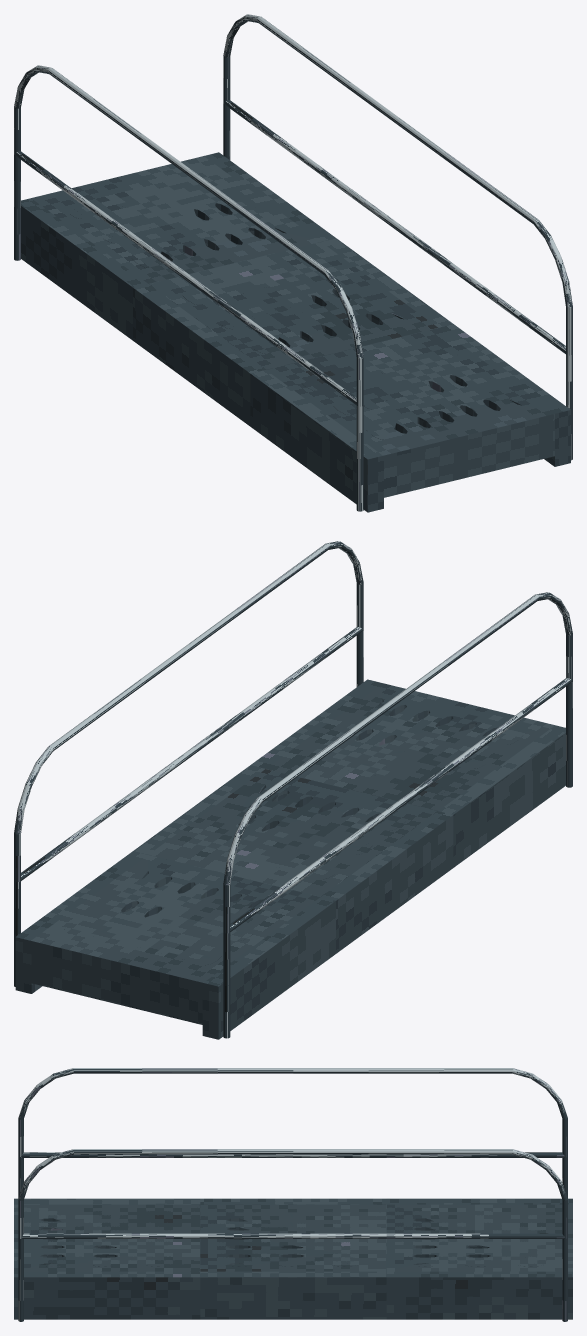
Rendered from catPlat3x1.fbx.
3 views of the same model, one above another, from view 1: azimuth 30°, elevation 25°; view 2: azimuth 150°, elevation 25°; view 3: azimuth 270°, elevation 25° (orthographic). The views are drawn at different scales.
Visible parts, largest first — view 1: CatPlat1.003, catPlat3Rail, catPlat3Rail.001; view 2: CatPlat1.003, catPlat3Rail, catPlat3Rail.001; view 3: CatPlat1.003, catPlat3Rail.001, catPlat3Rail.
Part boxes in pixels (x1,y1,x2,y2): CatPlat1.003: [21, 152, 570, 512]; catPlat3Rail: [14, 65, 363, 511]; catPlat3Rail.001: [223, 14, 572, 460]; CatPlat1.003: [15, 679, 565, 1039]; catPlat3Rail: [223, 592, 572, 1038]; catPlat3Rail.001: [14, 541, 363, 986]; CatPlat1.003: [14, 1198, 572, 1319]; catPlat3Rail.001: [18, 1149, 567, 1321]; catPlat3Rail: [18, 1068, 567, 1198].
Size of the model in its own units: 212 by 600 by 203.
2 materials, 2 textured.
